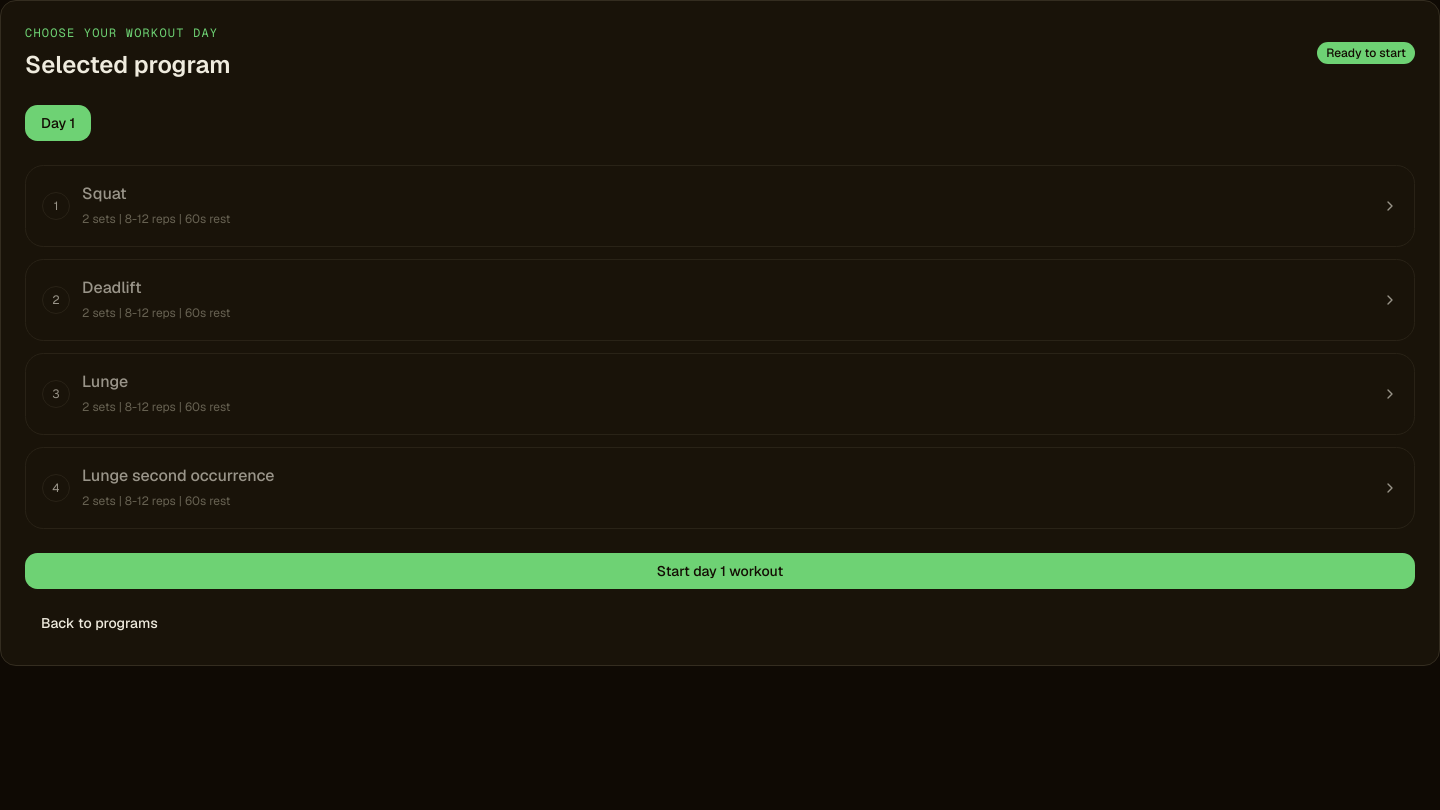
Scenario: workout interaction › does not complete a second occurrence when only the first was logged
Click the button "Start day 1 workout": (720, 571) [25,553,1415,589]
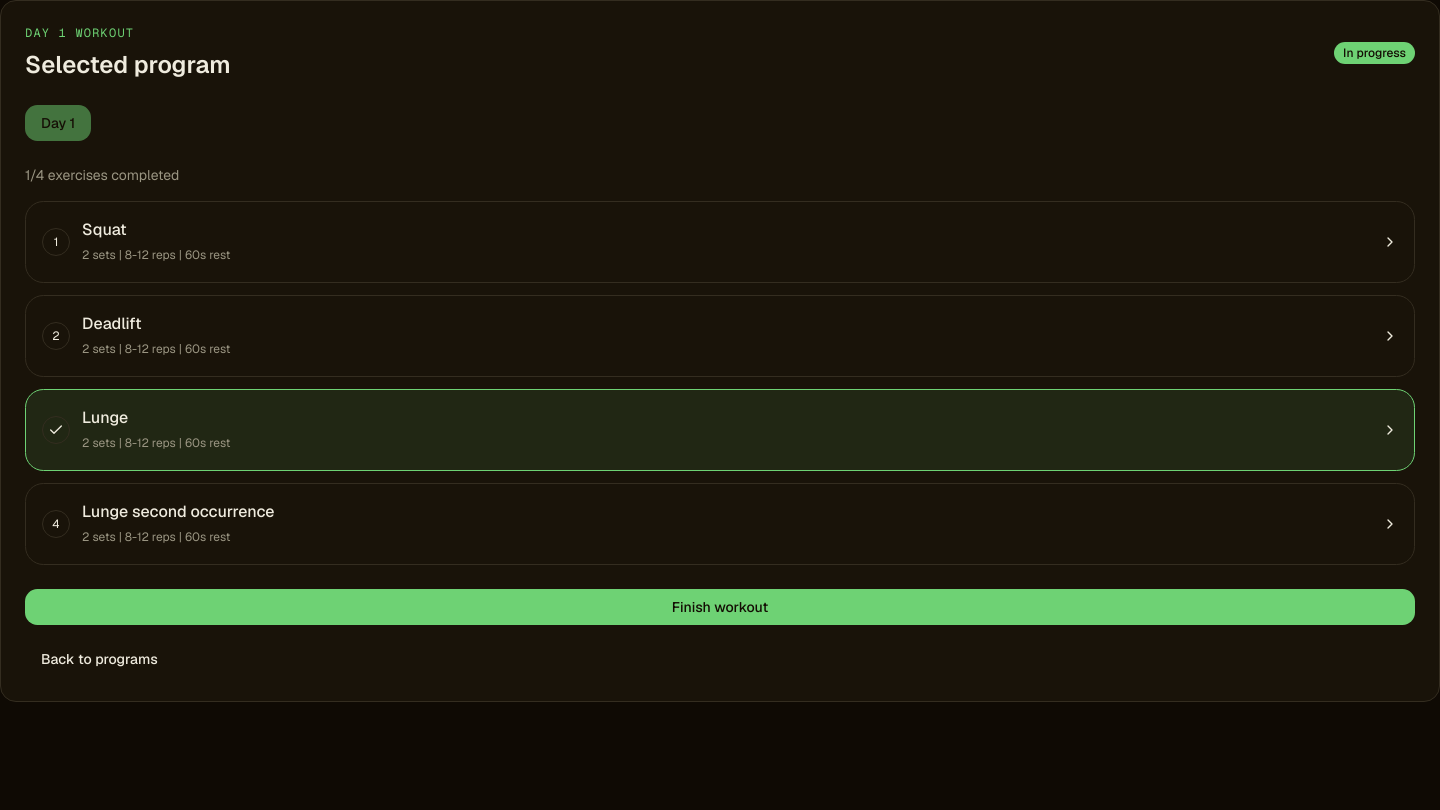
Expected: the icon with class "lucide-check" is shown, [48,422,64,438]
